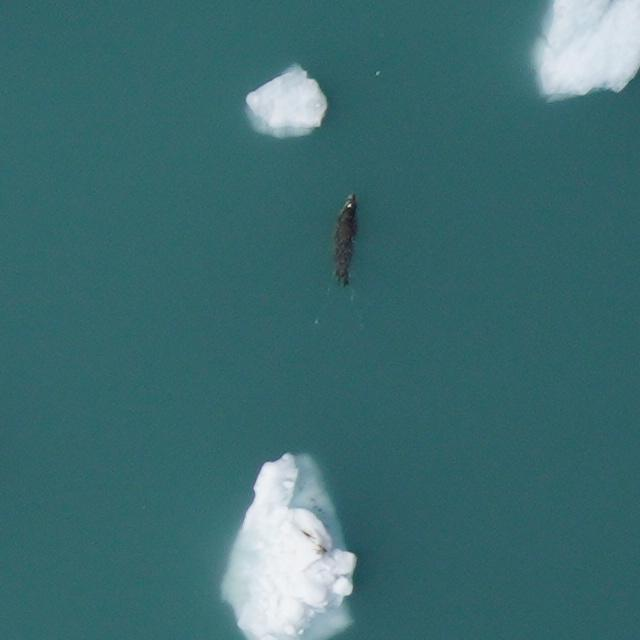seal: (326, 193, 362, 288)
